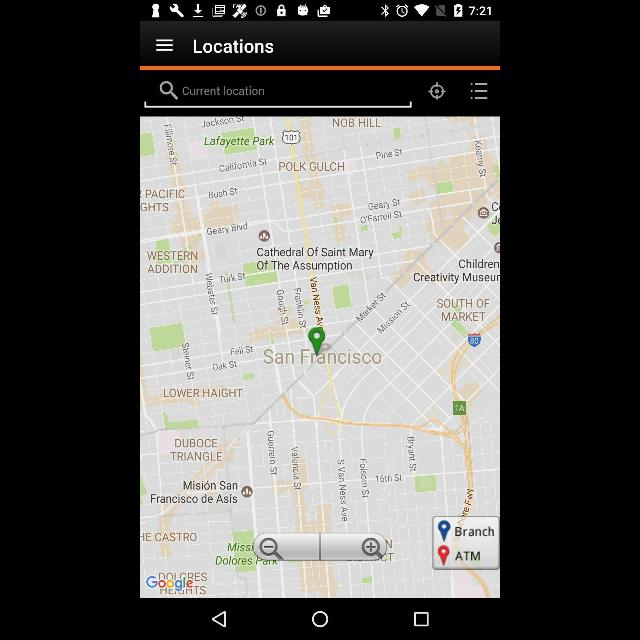icon: (159, 82, 179, 100), (470, 82, 488, 101), (212, 610, 228, 628), (429, 84, 445, 100), (312, 612, 328, 626), (156, 39, 172, 53), (414, 612, 428, 626)
input: (146, 78, 412, 110)
map: (140, 115, 500, 599)
panel: (140, 71, 500, 113), (140, 598, 500, 640)
text: (194, 40, 274, 54), (183, 86, 265, 96)
toolbar: (140, 19, 500, 65)
uppertaskbar: (140, 1, 500, 20)
